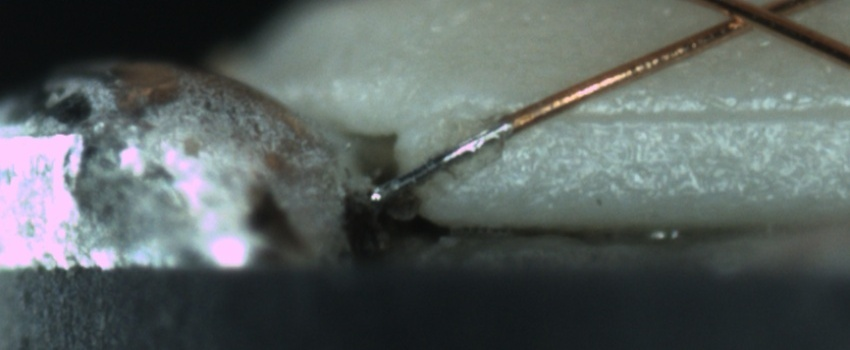CL: (700, 0, 812, 39)
DL: (497, 88, 850, 152)
TS: (369, 118, 515, 202)
TTCW: (364, 101, 553, 201)
